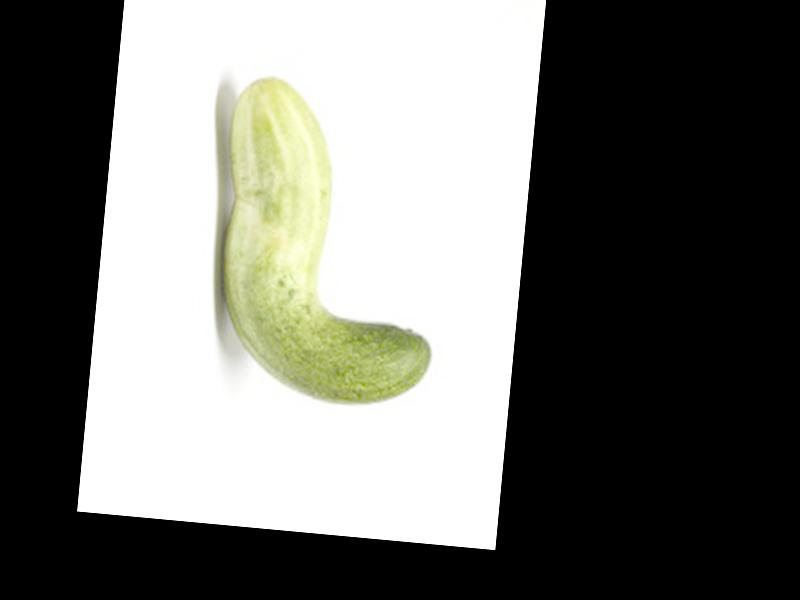Cucumber: (204, 72, 455, 412)
